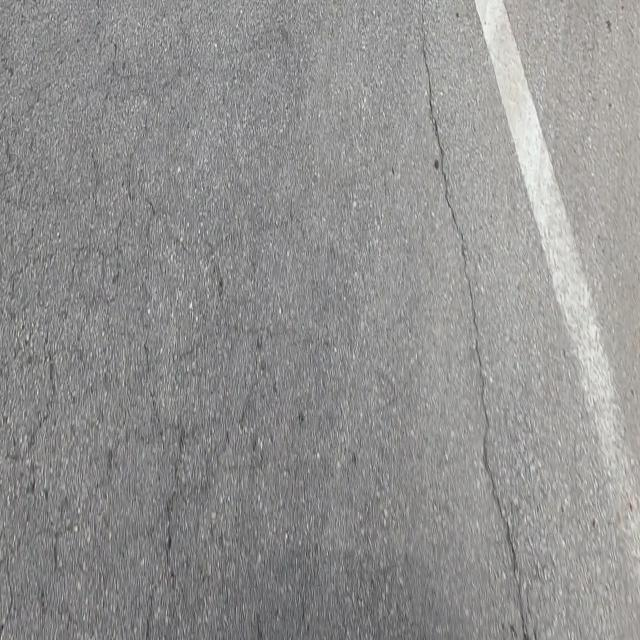Retak-Memanjang: (420, 39, 526, 640)
